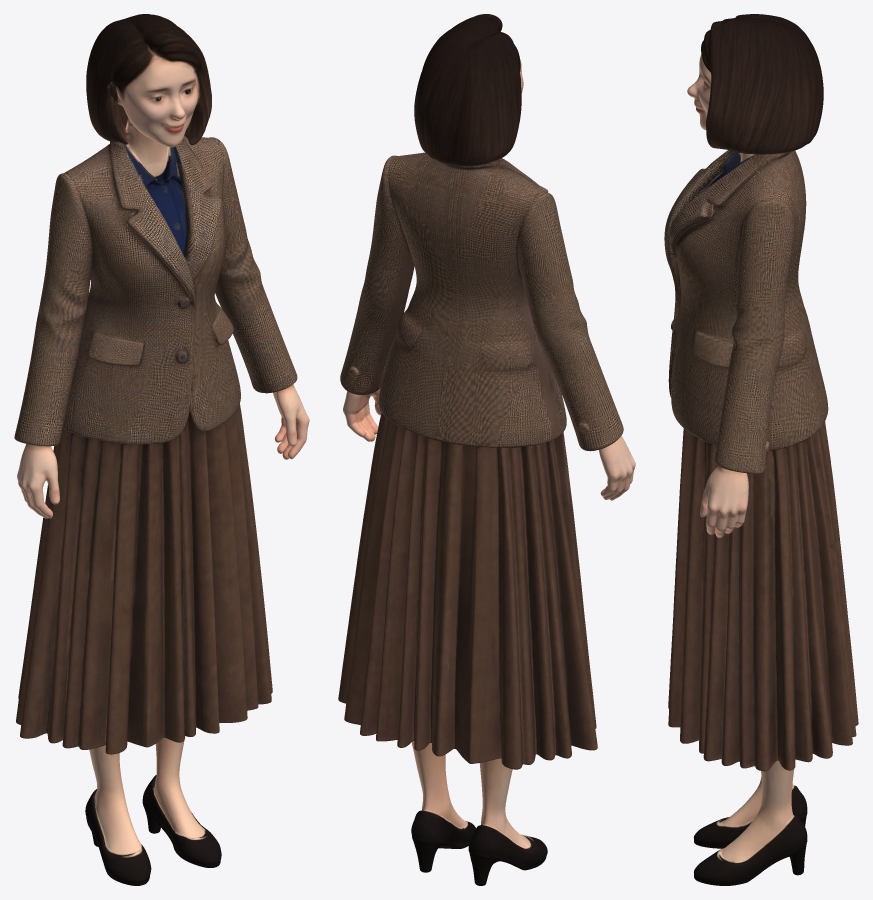
Rendered from 6-2-담임선생님.glb.
The picture shows the model from 3 angles, left to right: view 1: azimuth 30°, elevation 25°; view 2: azimuth 150°, elevation 25°; view 3: azimuth 270°, elevation 25°; orthographic projection.
Bounding box in the file's own units: 0.6765 × 1.9 × 0.3975.
Materials: 1 (1 with a texture image).
